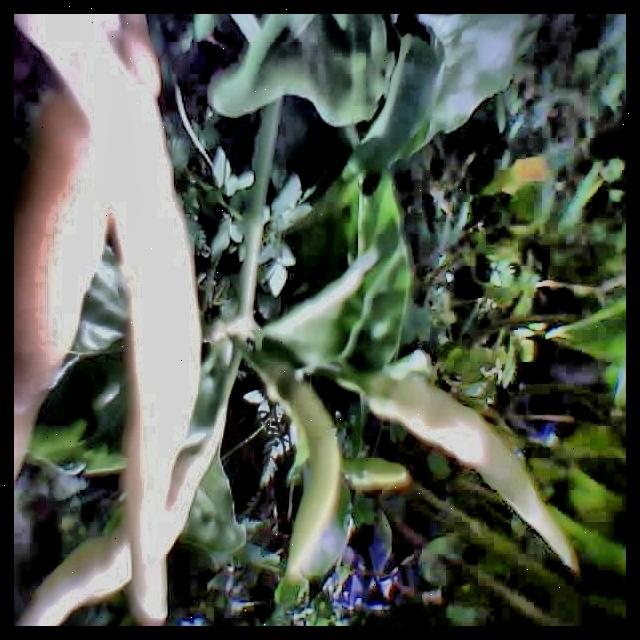Cabai: (14, 116, 107, 399)
